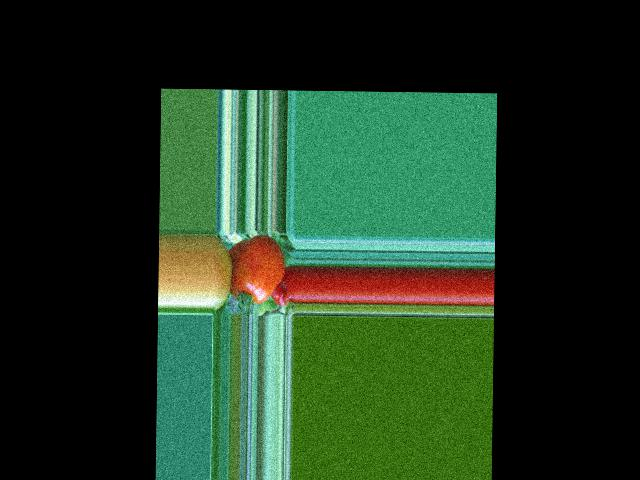tomato: (230, 234, 285, 304)
